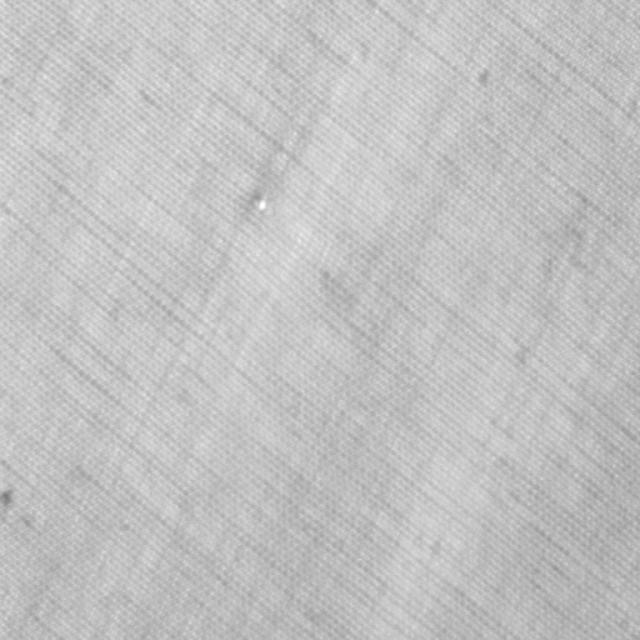hole: (245, 184, 273, 221)
